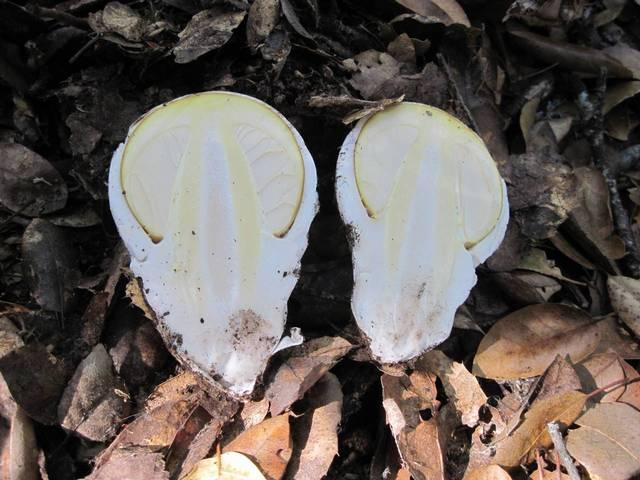edible_mushroom: (106, 88, 320, 399), (333, 99, 510, 368)
